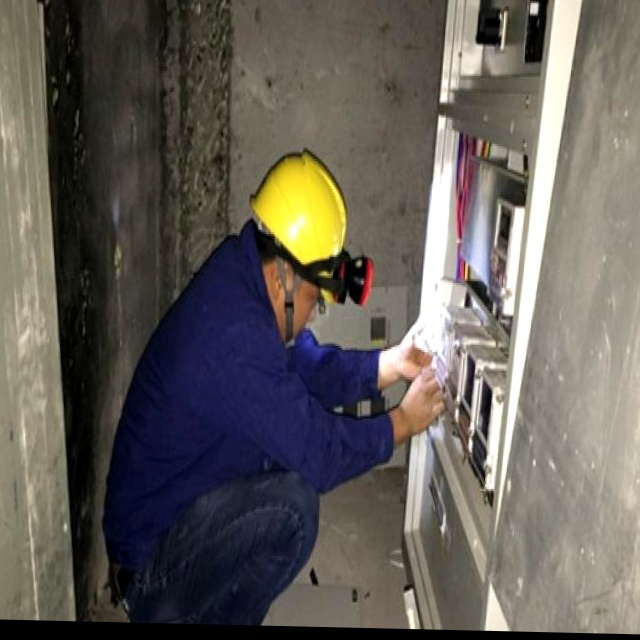Con_Casco: (248, 148, 350, 313)
